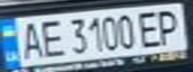0: (115, 11, 139, 50), (100, 12, 121, 52)
1: (84, 14, 106, 53)
3: (63, 15, 87, 55)
A: (12, 19, 48, 61)
E: (36, 17, 66, 59), (136, 8, 166, 48)
P: (151, 7, 187, 46)
